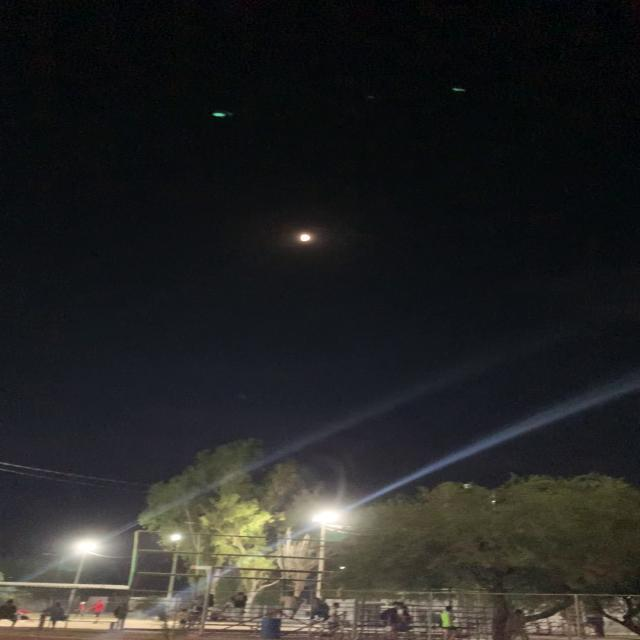moon: (293, 230, 320, 244)
